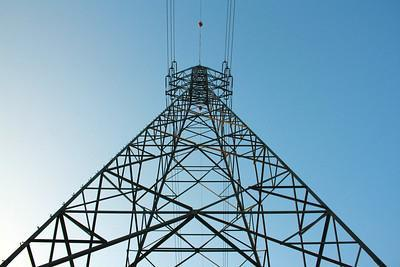power_tower: (2, 51, 387, 267)
